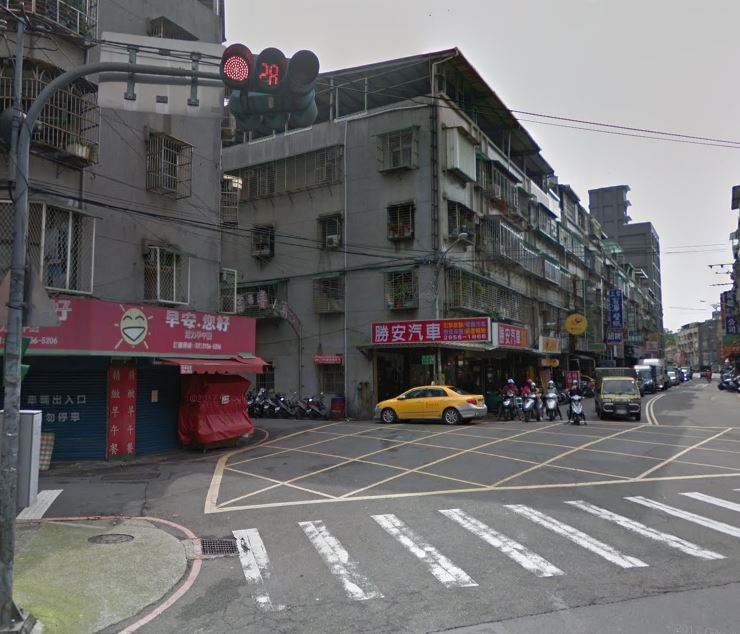Traffic_light_red: (219, 43, 320, 96)
